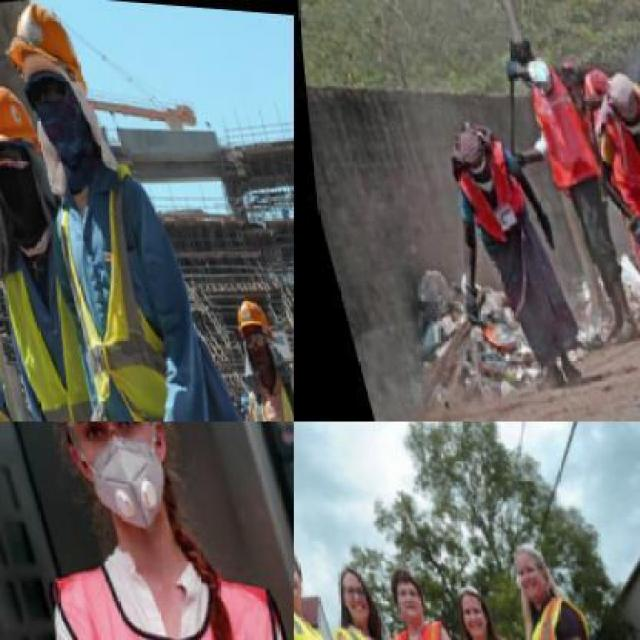vest: (34, 148, 226, 420), (35, 523, 292, 639), (0, 225, 123, 420), (517, 66, 601, 188), (440, 150, 532, 244), (500, 578, 618, 638), (592, 97, 638, 211), (231, 354, 292, 420), (374, 608, 471, 638)
